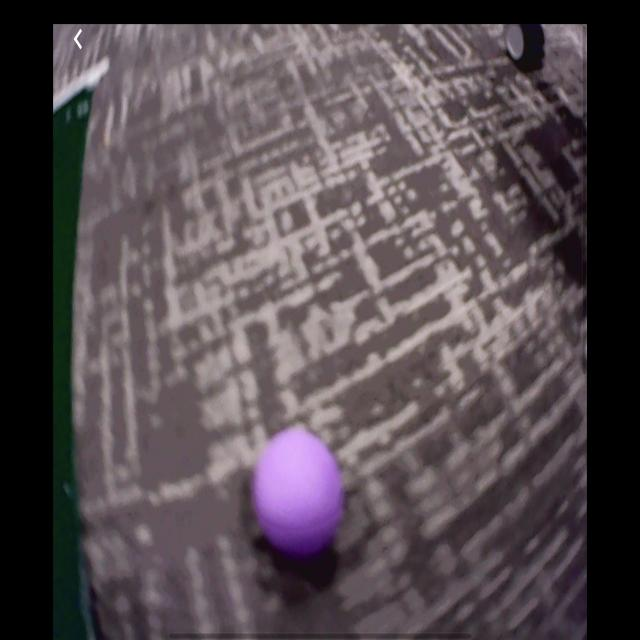ball: (257, 430, 340, 555)
